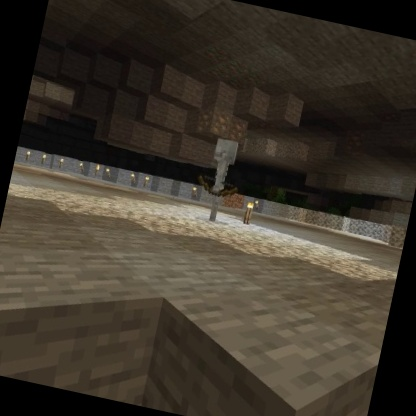skeleton: (186, 130, 252, 228)
